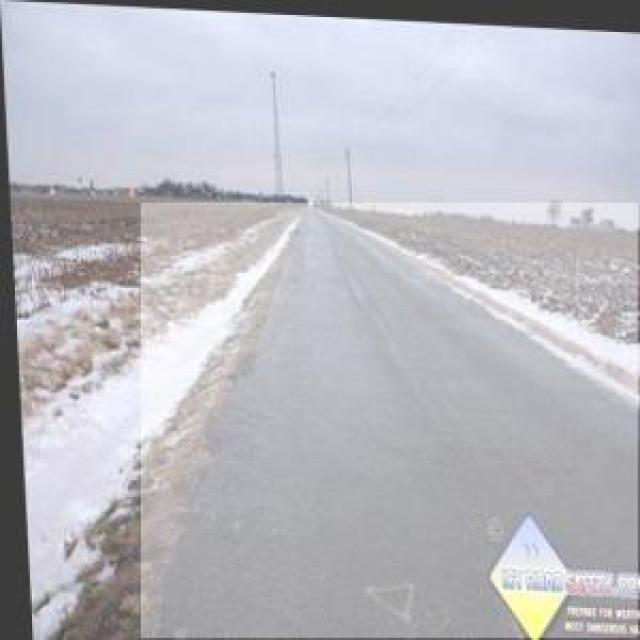clear-road: (142, 204, 640, 640)
